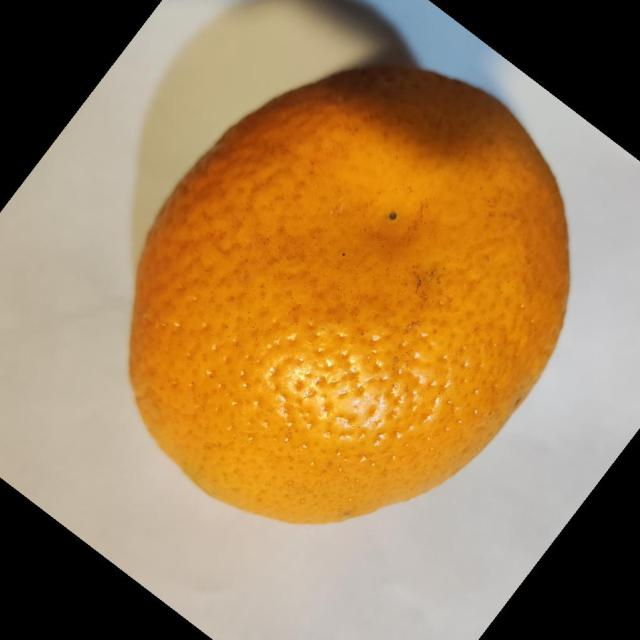fresh orange: (127, 61, 571, 525)
